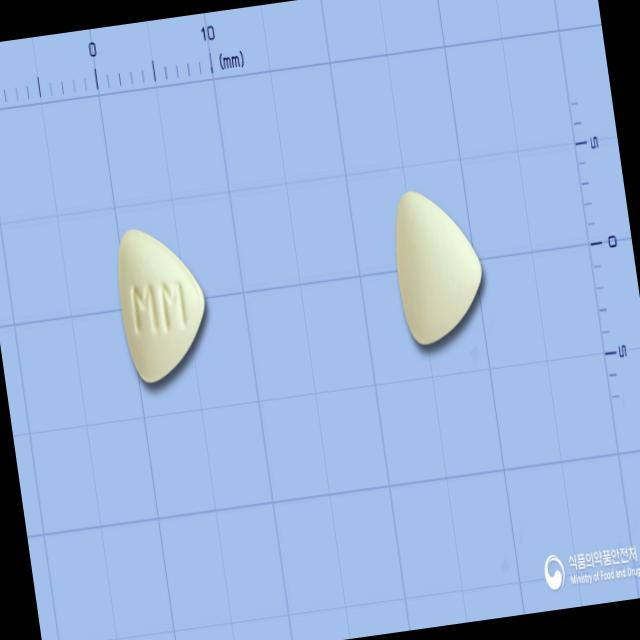Leflunomide: (110, 218, 216, 388)
